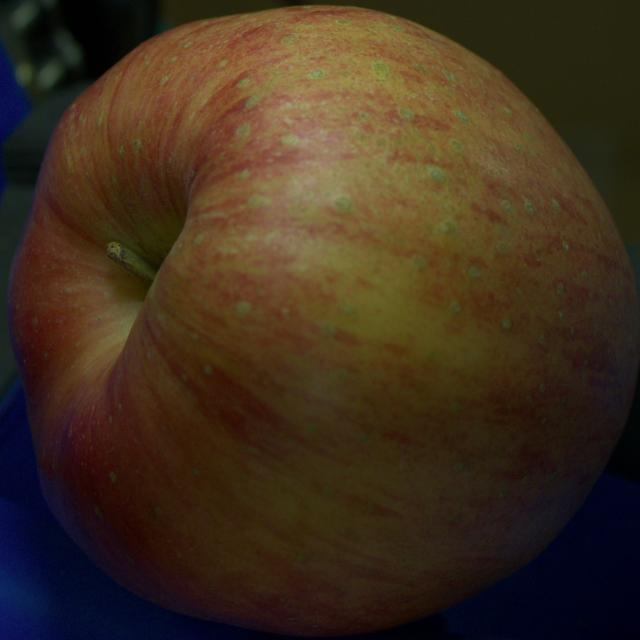apple: (9, 6, 639, 635)
